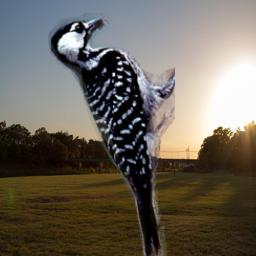Woodpecker: (48, 11, 175, 256)
